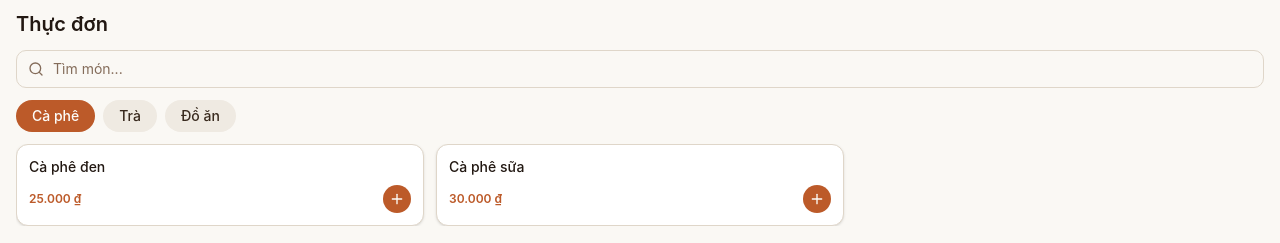
Test case: MenuGrid › shows exact text 'Không tìm thấy món nào' when search matches nothing in active group
This screenshot has width=1280, height=243.
Type "xyzxyzxyz" into the search field at (640, 69), box top-left (16, 50), bottom-right (1264, 88)
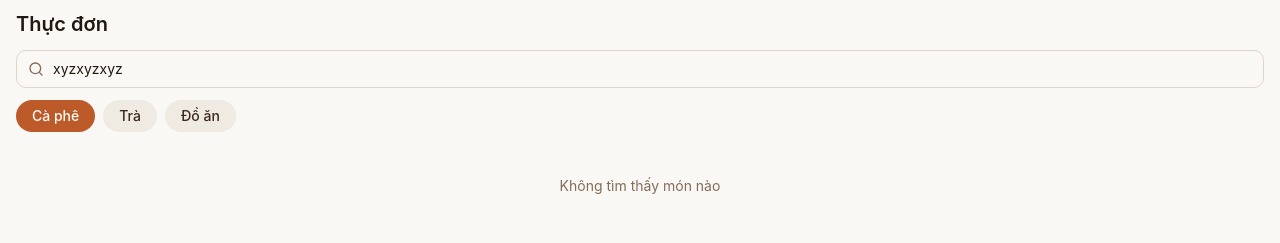
Expected: the text "Không tìm thấy món nào" is shown, top-left (560, 177), bottom-right (720, 194)
